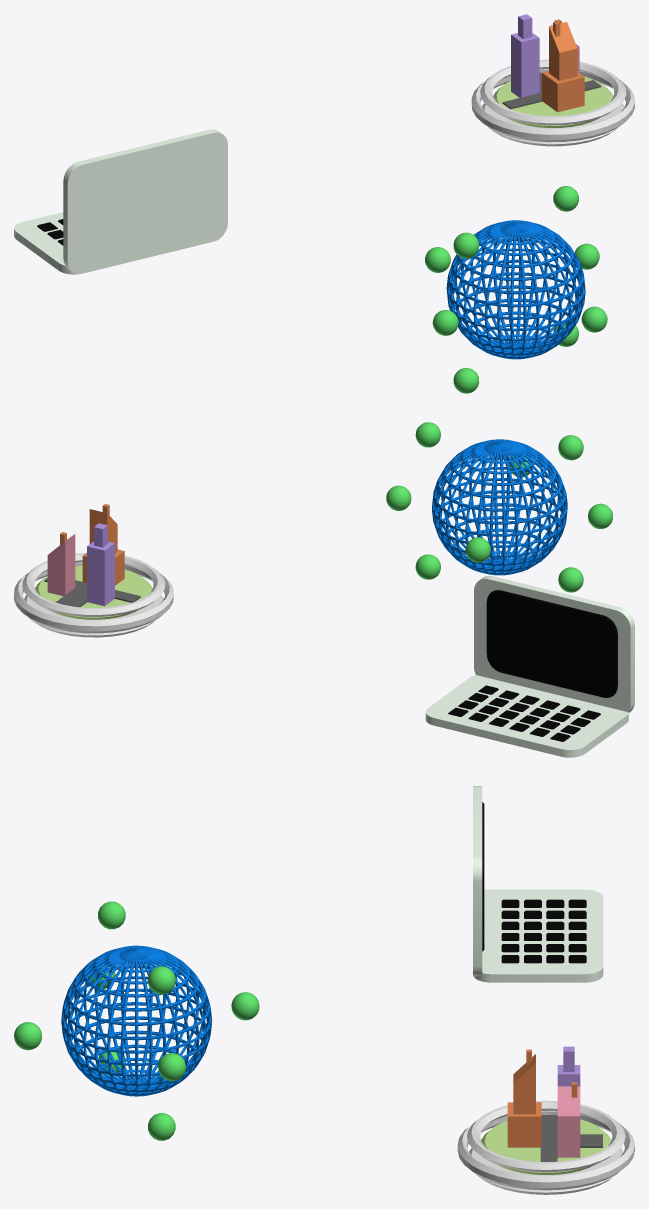
Rendered from icons_float.glb.
3 views of the same model, one above another, from view 1: azimuth 30°, elevation 25°; view 2: azimuth 150°, elevation 25°; view 3: azimuth 270°, elevation 25° (orthographic). The views are drawn at different scales.
Visible parts, largest first — view 1: PC.001, Sphere, Circle; view 2: PC.001, Sphere, Circle; view 3: Sphere, Circle, PC.001.
Boxes of the visible parts, x1,y1,x2,y2 form: PC.001: [14, 129, 227, 274]; Sphere: [425, 186, 607, 393]; Circle: [471, 14, 634, 146]; PC.001: [425, 575, 634, 757]; Sphere: [386, 422, 612, 592]; Circle: [14, 504, 173, 637]; Sphere: [14, 901, 259, 1140]; Circle: [457, 1046, 634, 1194]; PC.001: [473, 786, 603, 982].
Size of the model in its own units: 3.96 by 1.02 by 3.33.
